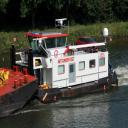tugboat: (10, 18, 121, 107)
